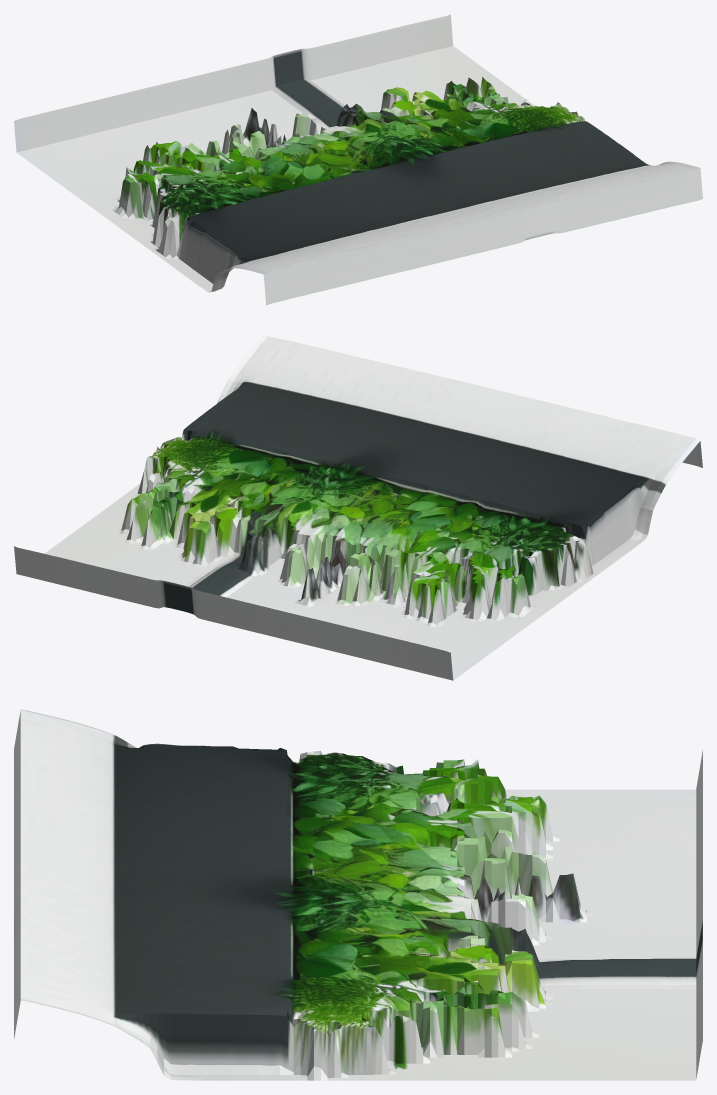
The model's file is Plant_model.fbx.
The picture shows the model from 3 angles, top to bottom: view 1: azimuth 30°, elevation 25°; view 2: azimuth 150°, elevation 25°; view 3: azimuth 270°, elevation 25°; orthographic projection. The views are drawn at different scales.
Parts seen in each view (by area): view 1: Relief_2_5D; view 2: Relief_2_5D; view 3: Relief_2_5D.
Part boxes in pixels (x1,y1,x2,y2): Relief_2_5D: [14, 14, 702, 305]; Relief_2_5D: [14, 334, 702, 680]; Relief_2_5D: [14, 709, 702, 1080].
Size of the model in its own units: 2 by 0.2908 by 2.
1 material, 1 textured.
